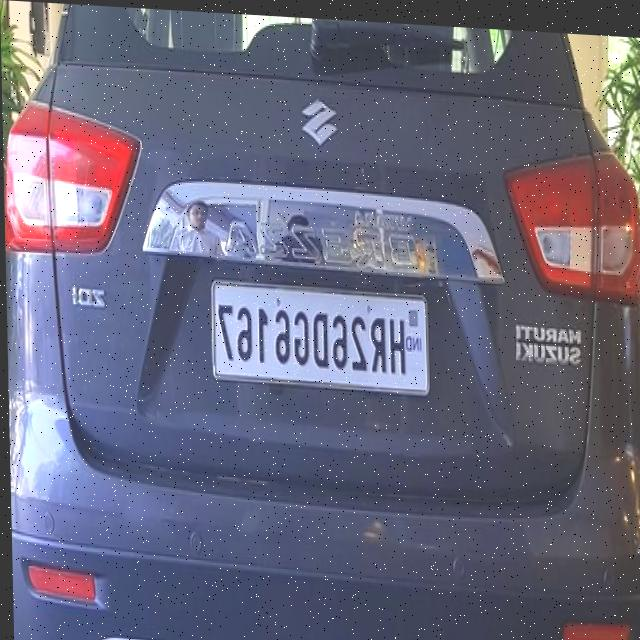plate: (210, 274, 429, 391)
